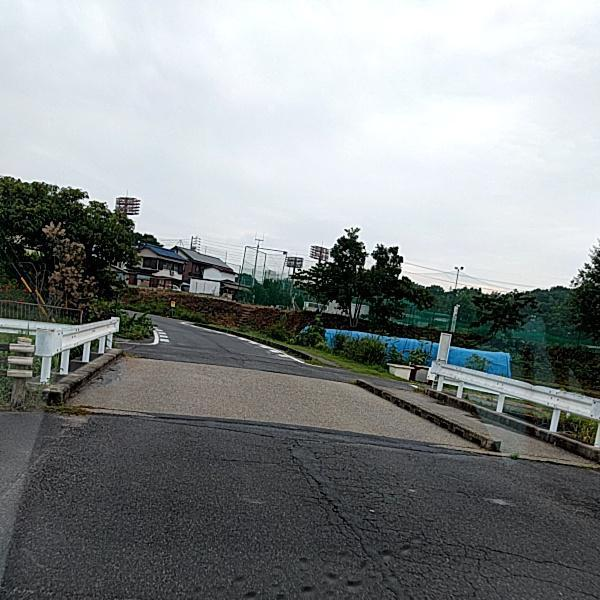D20: (272, 436, 574, 599)
